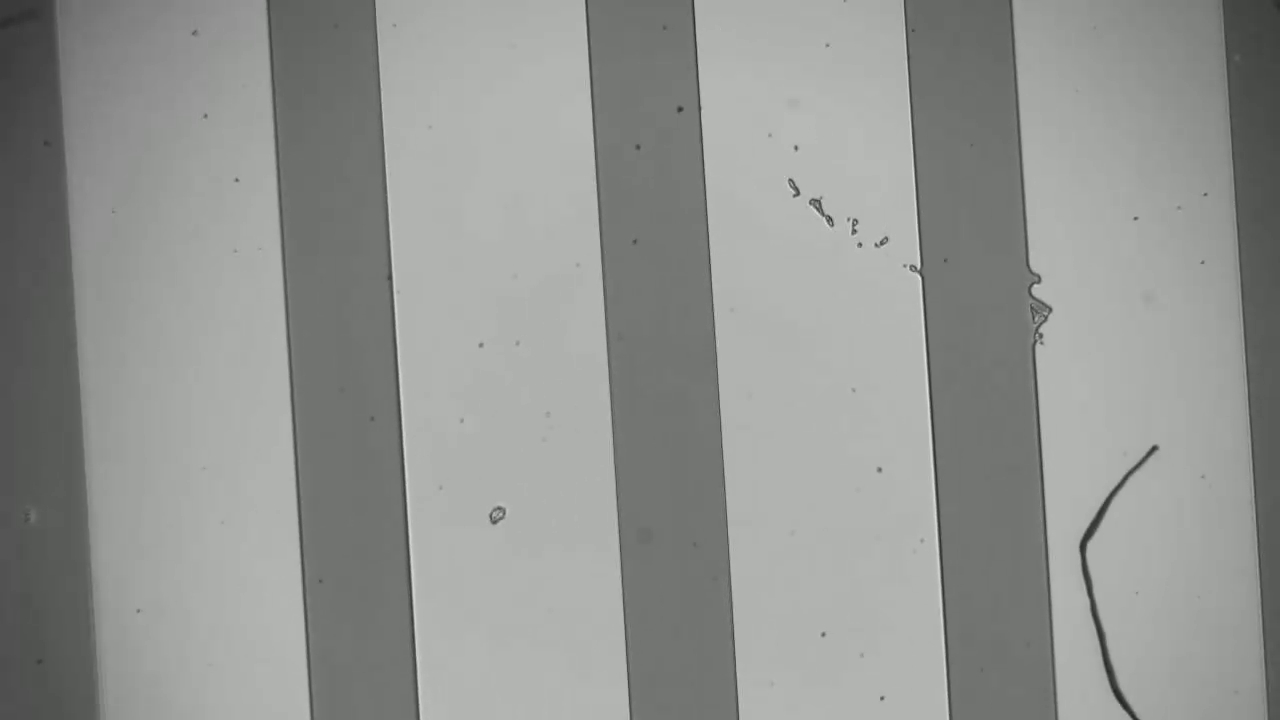edge_bite: (1016, 290, 1065, 345), (1018, 260, 1048, 290)
